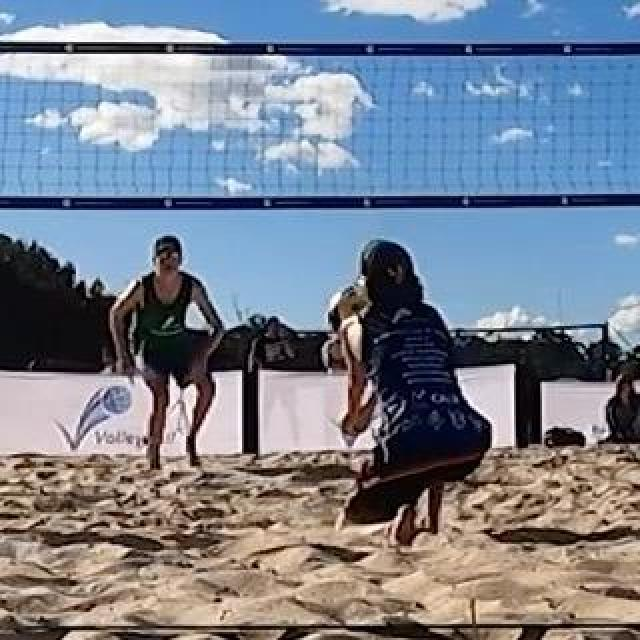volleyball: (326, 283, 376, 335)
